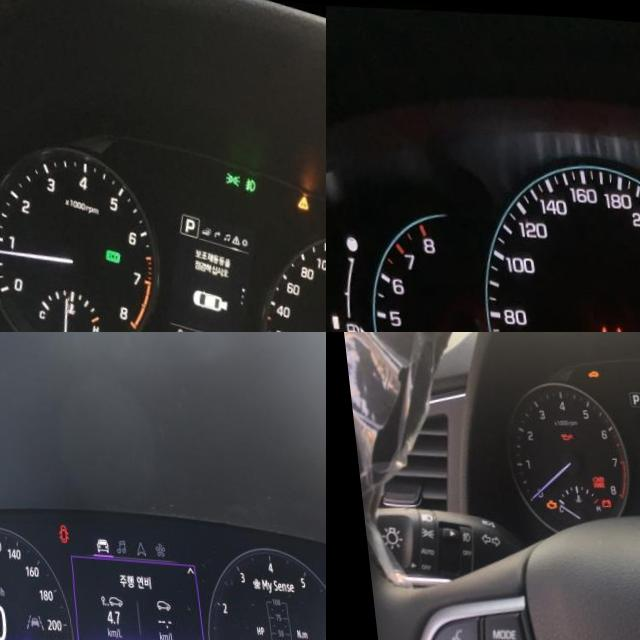Central Warning lamp: (289, 184, 306, 202)
Doors: (51, 517, 64, 539)
FrontFogLight: (238, 169, 252, 186)
SideLamp: (218, 163, 236, 180)
